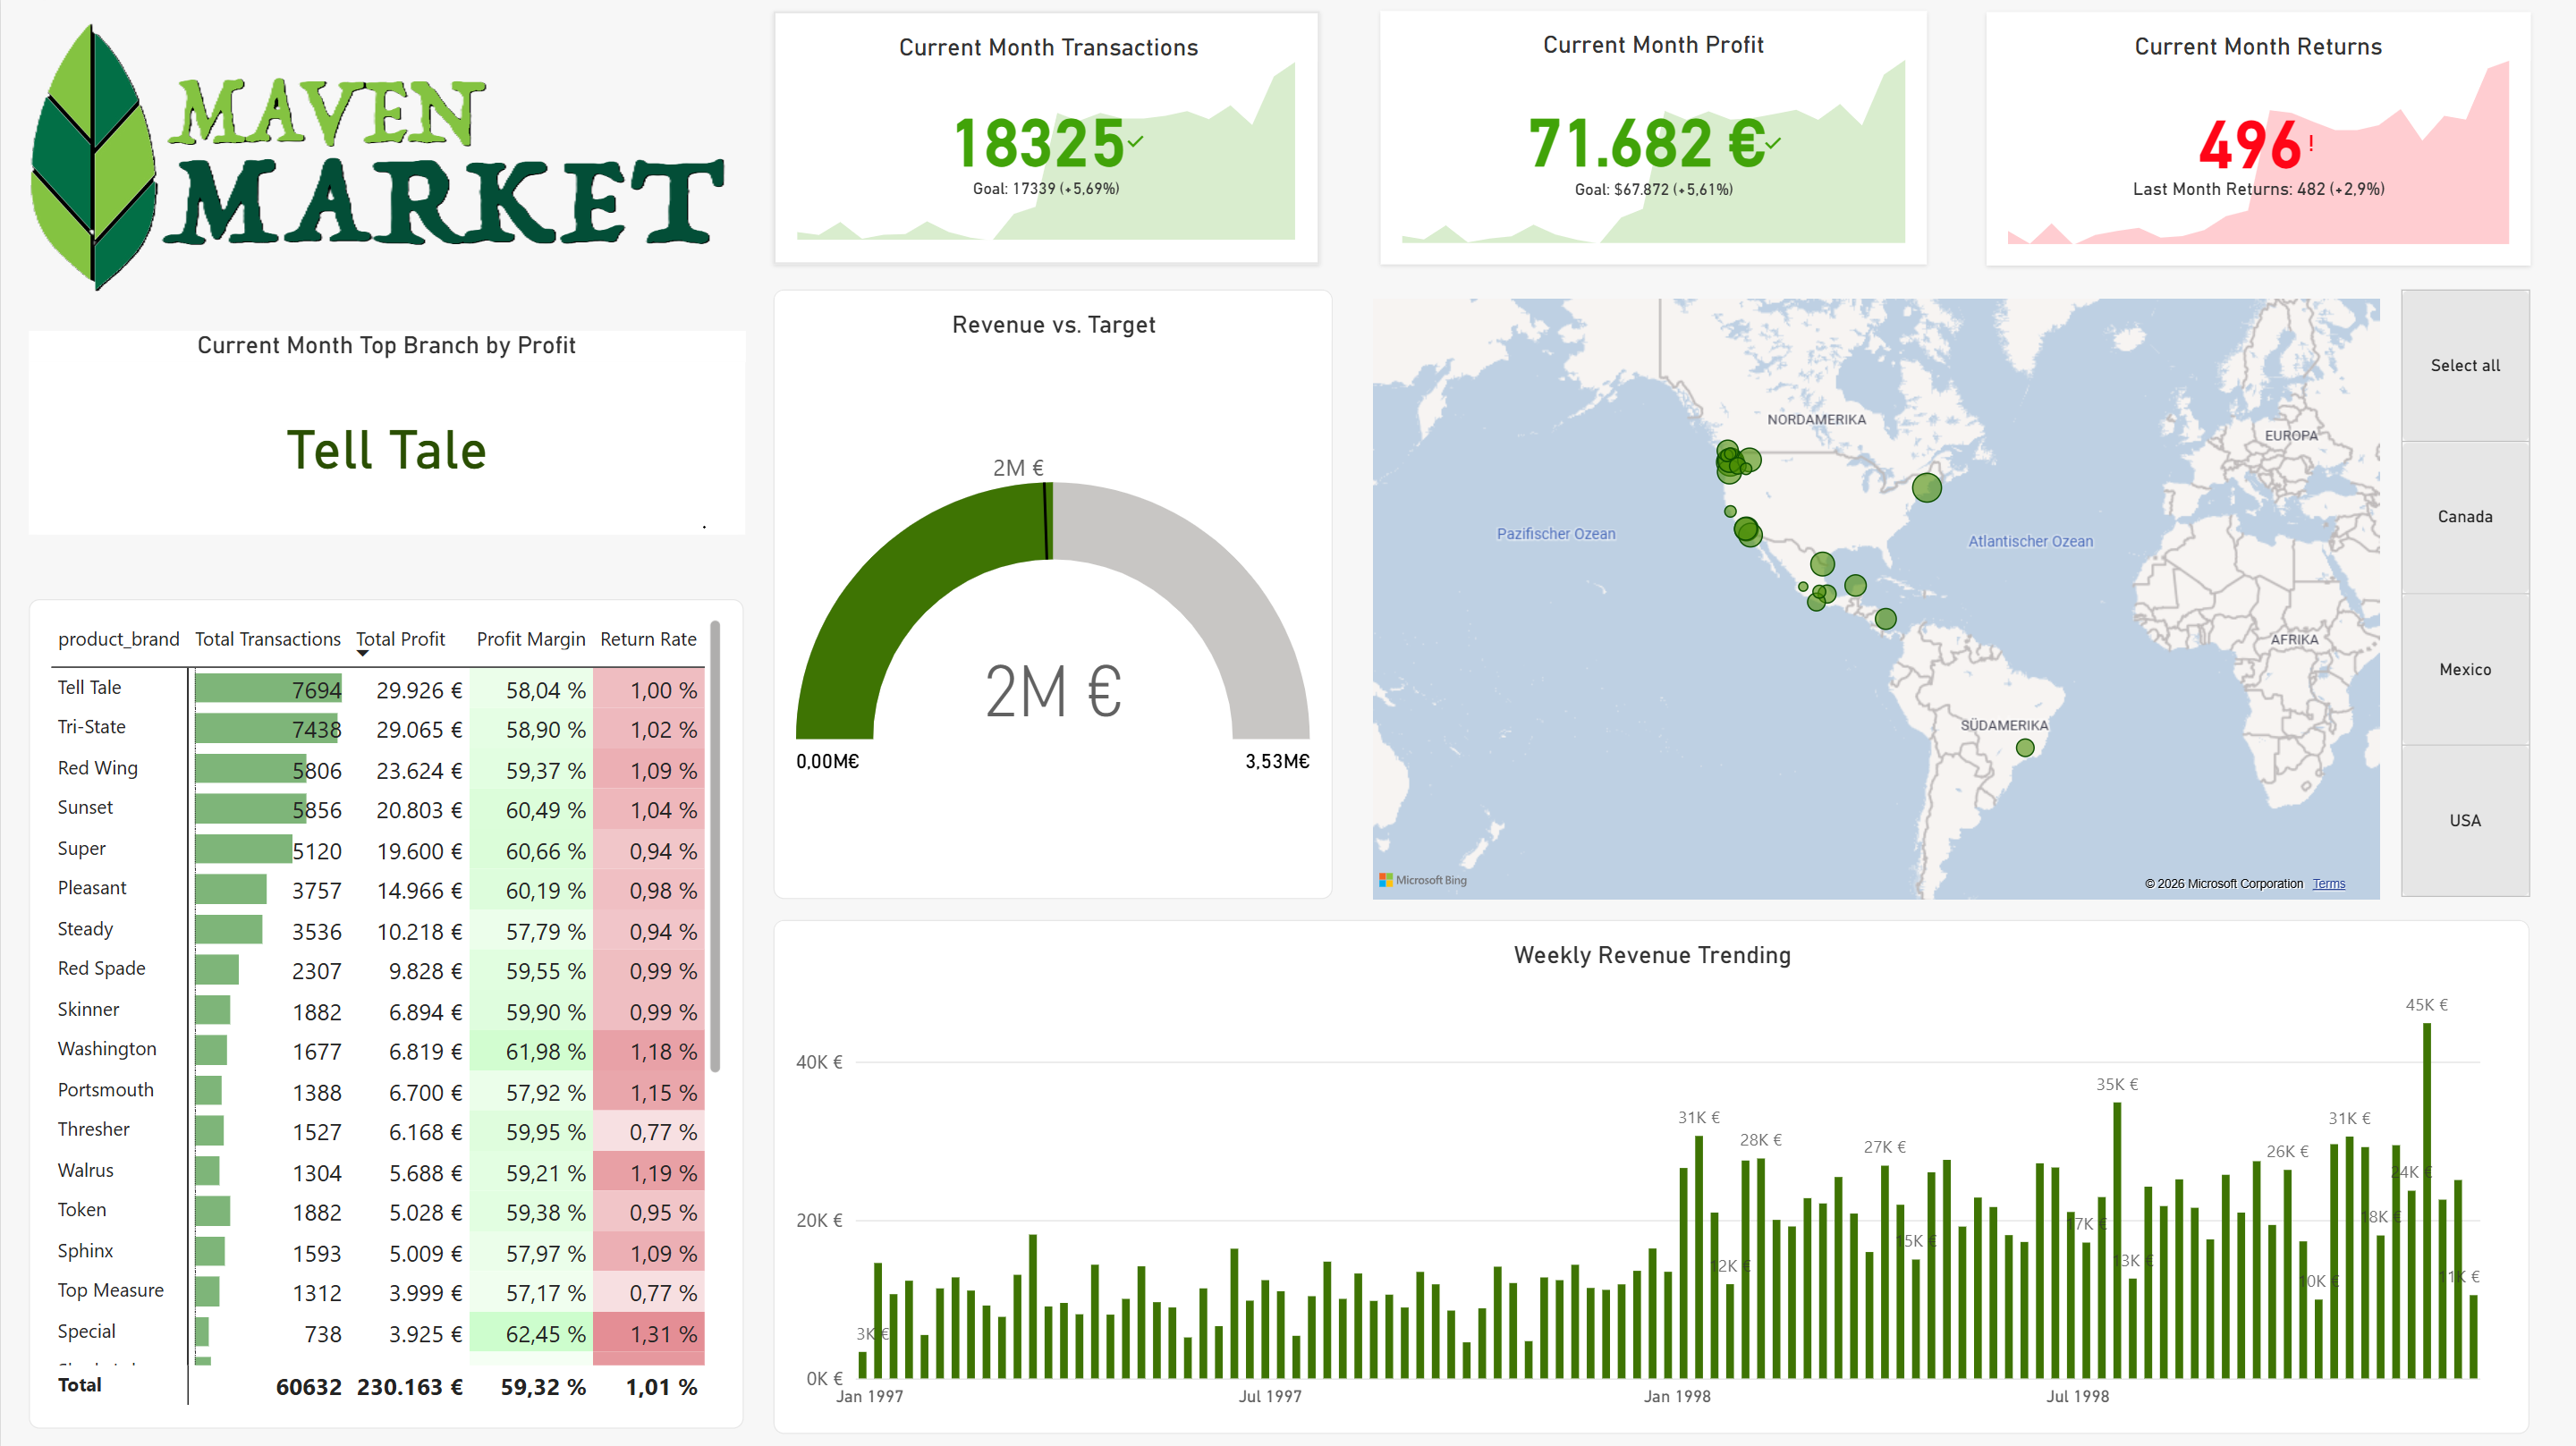

What the dashboard file says about the page in this screenshot:
{"tool":"powerbi","page":{"name":"Topline Performance","canvas":[1920,1080],"ordinal":0},"visuals":[{"type":"pivotTable","fields":{"Rows":["Products.product_brand"],"Values":["Measure Table.Total Transactions","Measure Table.Total Profit","Measure Table.Profit Margin","Measure Table.Return Rate"]},"box":[21,447,533,618],"z":0},{"type":"kpi","title":"Current Month Transactions","fields":{"Goal":["Measure Table.Last Month Transactions"],"Indicator":["Measure Table.Total Transactions"],"TrendLine":["Calendar.Start of Month"]},"box":[576.2,8.7,407.5,189.2],"z":1000},{"type":"kpi","title":"Current Month Profit","fields":{"Goal":["Measure Table.Last Month Profit"],"Indicator":["Measure Table.Total Profit"],"TrendLine":["Calendar.Start of Month"]},"box":[1028.1,8.7,407.5,189.2],"z":2000},{"type":"kpi","title":"Current Month Returns","fields":{"Goal":["Measure Table.Last Month Returns"],"Indicator":["Measure Table.Total Returns"],"TrendLine":["Calendar.Start of Month"]},"box":[1480,9,405.9,189.2],"z":3000},{"type":"map","fields":{"Category":["Stores.store_country","Stores.store_state","Stores.store_city"],"Size":["Measure Table.Total Transactions"]},"box":[1007,208,782,478],"z":4000},{"type":"advancedSlicerVisual","fields":{"Values":["Stores.store_country"]},"box":[1789,216,96,454],"z":5000},{"type":"columnChart","title":"Weekly Revenue Trending","fields":{"Category":["Calendar.Start of Week"],"Y":["Measure Table.Total Revenue"]},"box":[576,686,1309,383],"z":6000},{"type":"gauge","title":"Revenue vs. Target","fields":{"TargetValue":["Measure Table.Revenue Target"],"Y":["Measure Table.Total Revenue"]},"box":[576,216,417,454],"z":7000},{"type":"cardVisual","title":"Current Month Top Branch by Profit","fields":{"Data":["Measure Table.Current Month Top Product Branch"]},"box":[21,246.5,534,152],"z":8000},{"type":"image","box":[21,9,534,189],"z":9000}]}

Visuals, with their boxes in screenshot pixels (x1, y1, x2, y2), scaled from the page's 1920x1080 canvas onto the 2576x1446 screenshot:
pivotTable - Products.product_brand x Measure Table.Total Transactions: (left=29, top=598, right=743, bottom=1426)
"Current Month Transactions" kpi: (left=773, top=12, right=1320, bottom=265)
"Current Month Profit" kpi: (left=1379, top=12, right=1926, bottom=265)
"Current Month Returns" kpi: (left=1986, top=12, right=2530, bottom=266)
map - Stores.store_country x Stores.store_state: (left=1351, top=278, right=2401, bottom=918)
advancedSlicerVisual - Stores.store_country: (left=2401, top=289, right=2529, bottom=897)
"Weekly Revenue Trending" columnChart: (left=773, top=918, right=2529, bottom=1432)
"Revenue vs. Target" gauge: (left=773, top=289, right=1333, bottom=897)
"Current Month Top Branch by Profit" cardVisual: (left=29, top=330, right=744, bottom=534)
image: (left=29, top=12, right=744, bottom=265)
